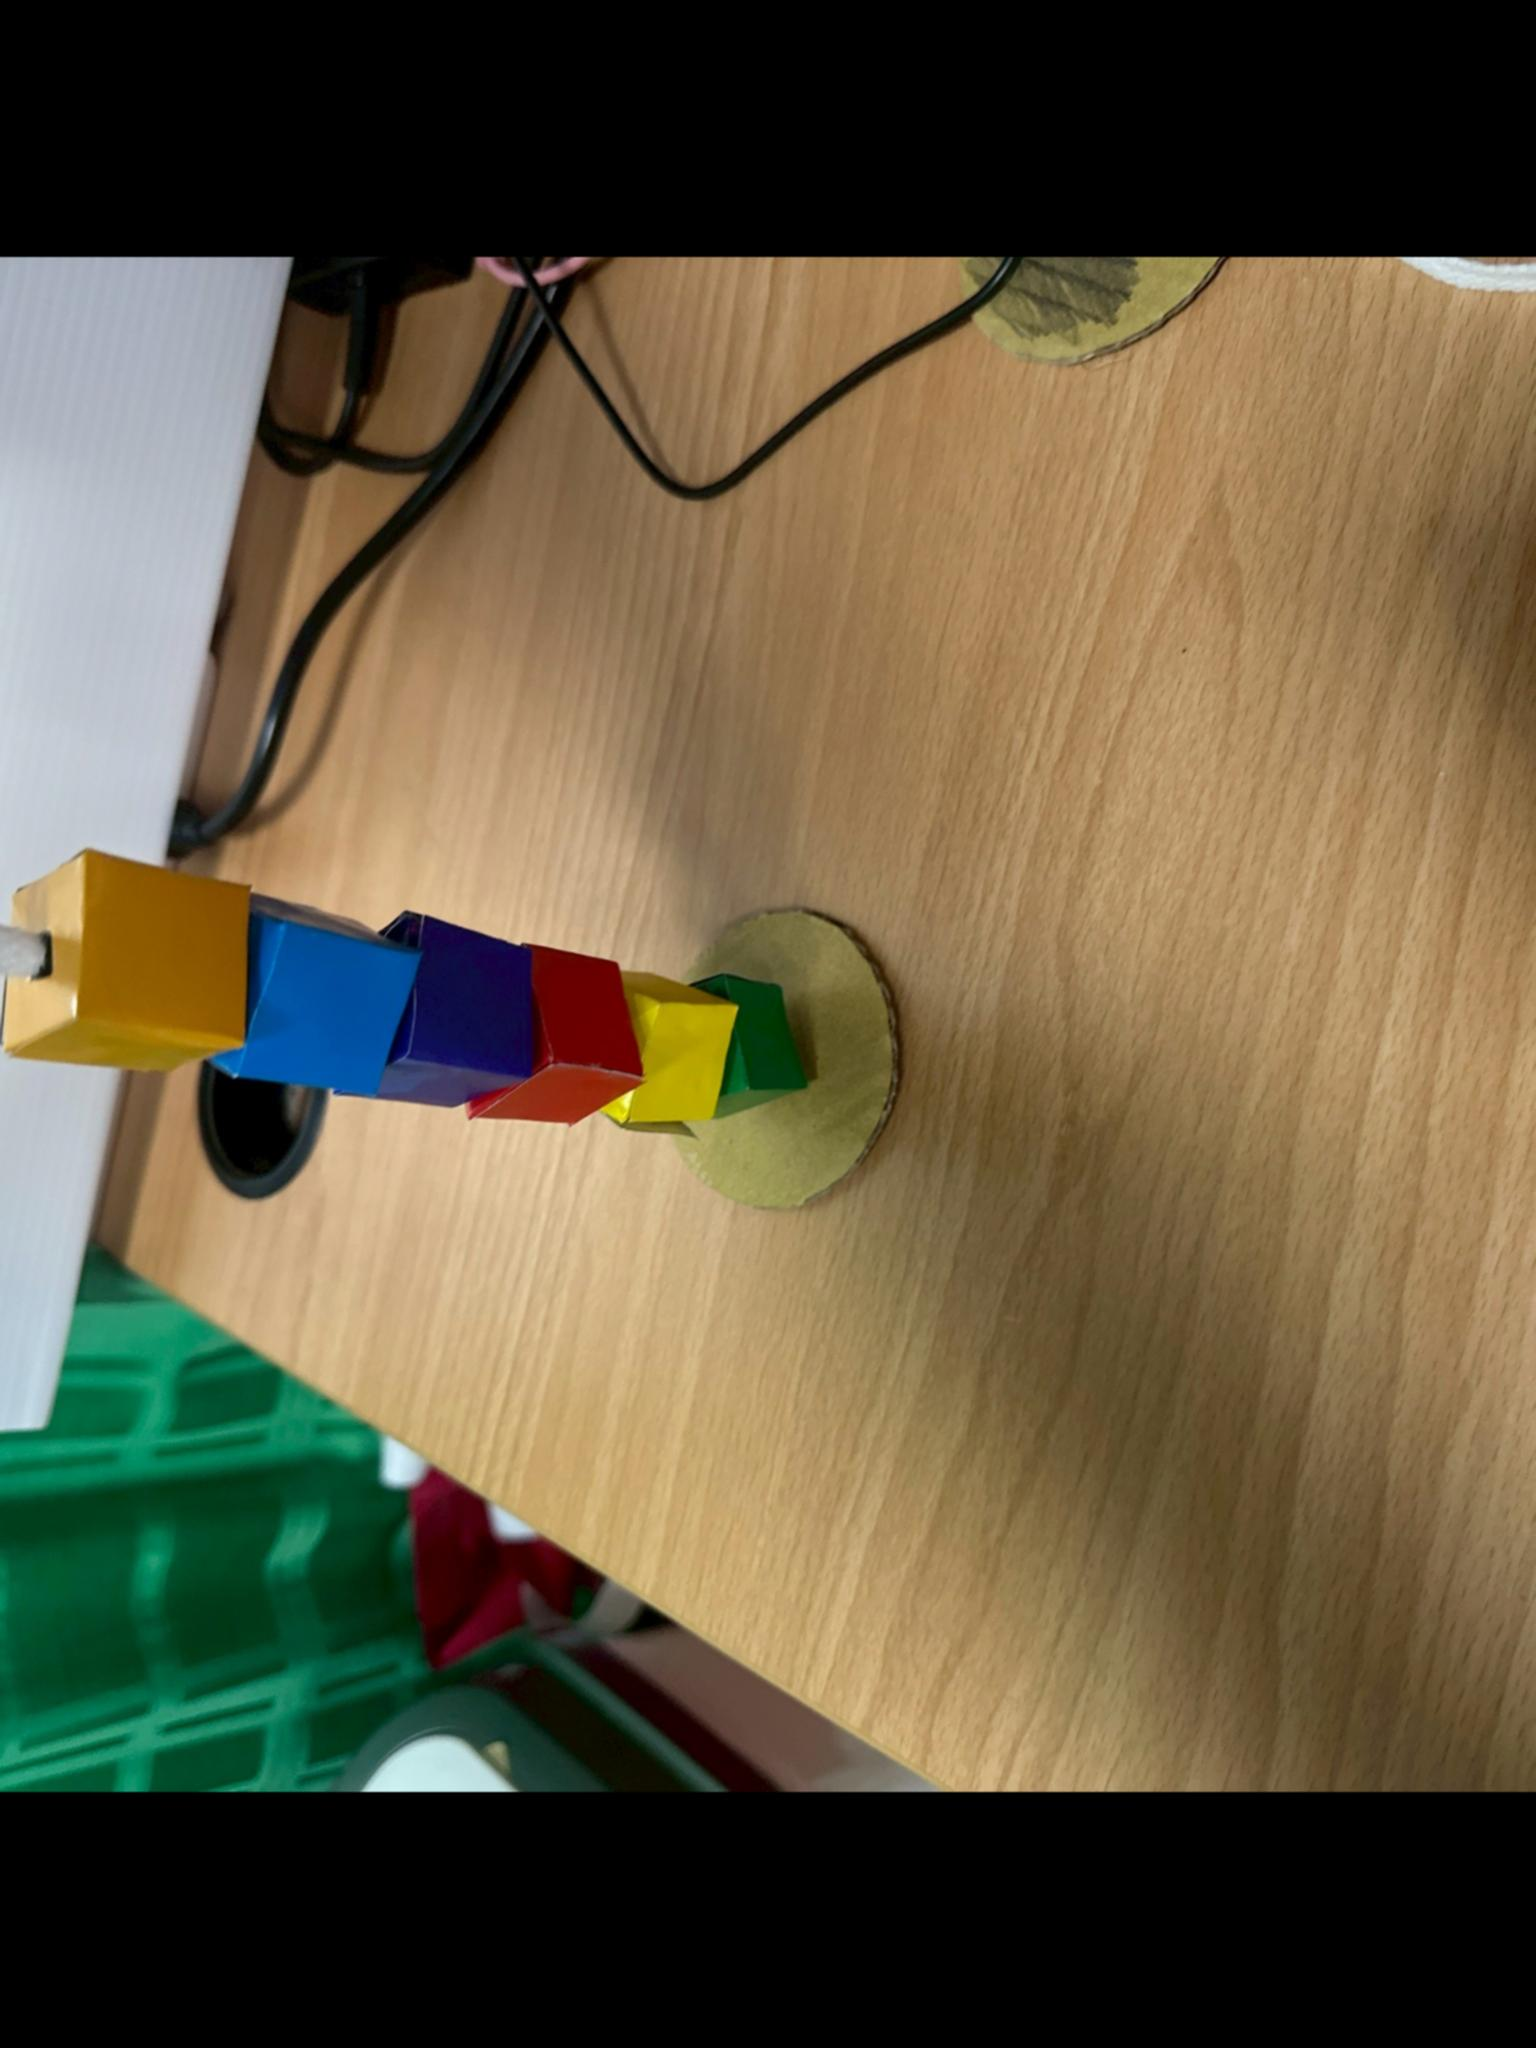base: (670, 908, 900, 1208)
